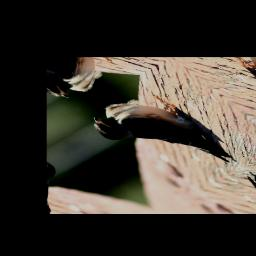Swallow: (81, 83, 243, 194)
